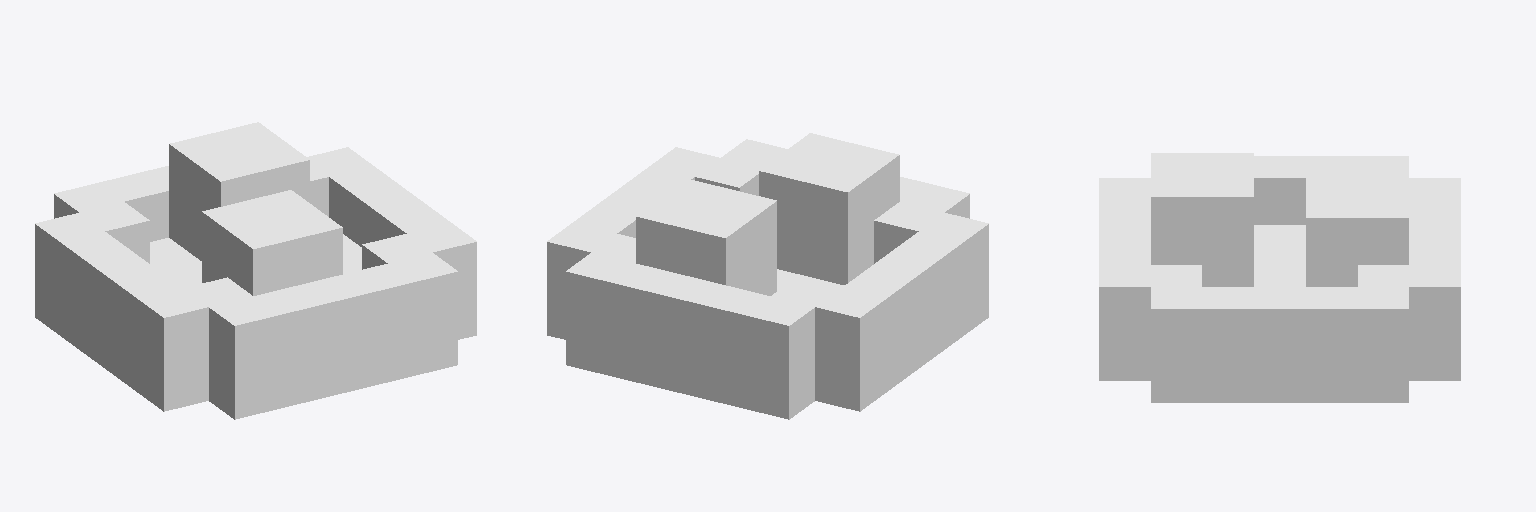
The model's file is Nest.obj.
The picture shows the model from 3 angles: view 1: azimuth 30°, elevation 25°; view 2: azimuth 150°, elevation 25°; view 3: azimuth 270°, elevation 25°; orthographic projection.
Parts seen in each view (by area): view 1: Nest; view 2: Nest; view 3: Nest.
Boxes of the visible parts, <box> form: Nest: <box>35,122,476,419</box>; Nest: <box>547,133,988,419</box>; Nest: <box>1099,153,1460,402</box>.
Size of the model in its own units: 7 by 3 by 7.